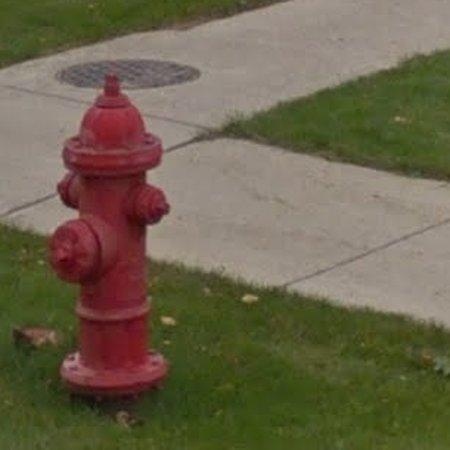a fire hydrant: (48, 74, 170, 400)
